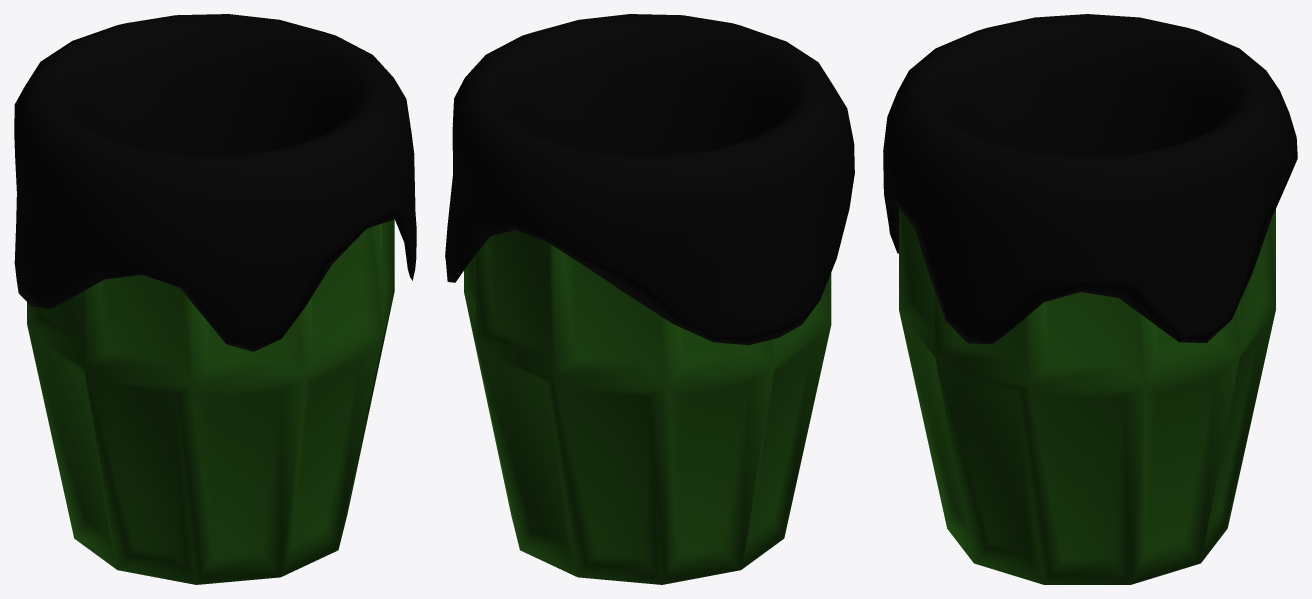
Rendered from Bote_basura.fbx.
3 views of the same model, side by side, from view 1: azimuth 30°, elevation 25°; view 2: azimuth 150°, elevation 25°; view 3: azimuth 270°, elevation 25° (orthographic).
Visible parts, largest first — view 1: bolsa, bote; view 2: bolsa, bote; view 3: bolsa, bote.
Part boxes in pixels (x1,y1,x2,y2): bolsa: (14, 14, 416, 351); bote: (27, 219, 394, 584); bolsa: (445, 14, 854, 345); bote: (464, 230, 831, 584); bolsa: (883, 14, 1297, 343); bote: (899, 208, 1275, 584).
Size of the model in its own units: 218 by 265 by 220.
